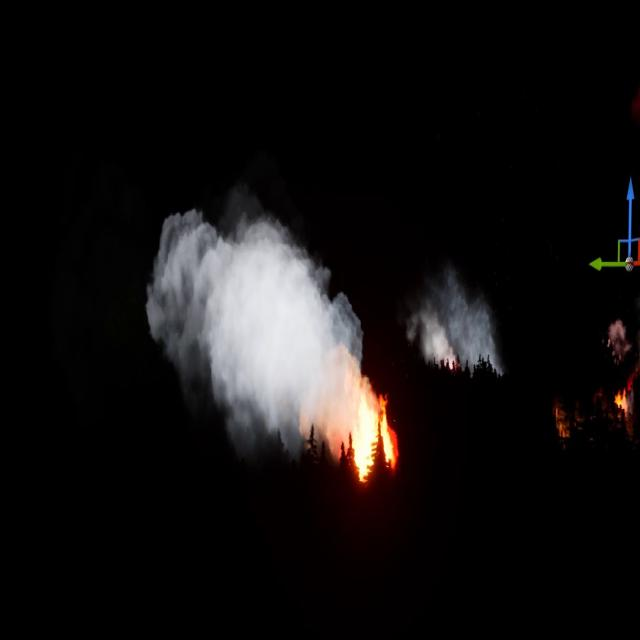fire: (341, 375, 397, 486), (609, 375, 631, 418)
smoke: (144, 196, 370, 450), (406, 268, 505, 378)
